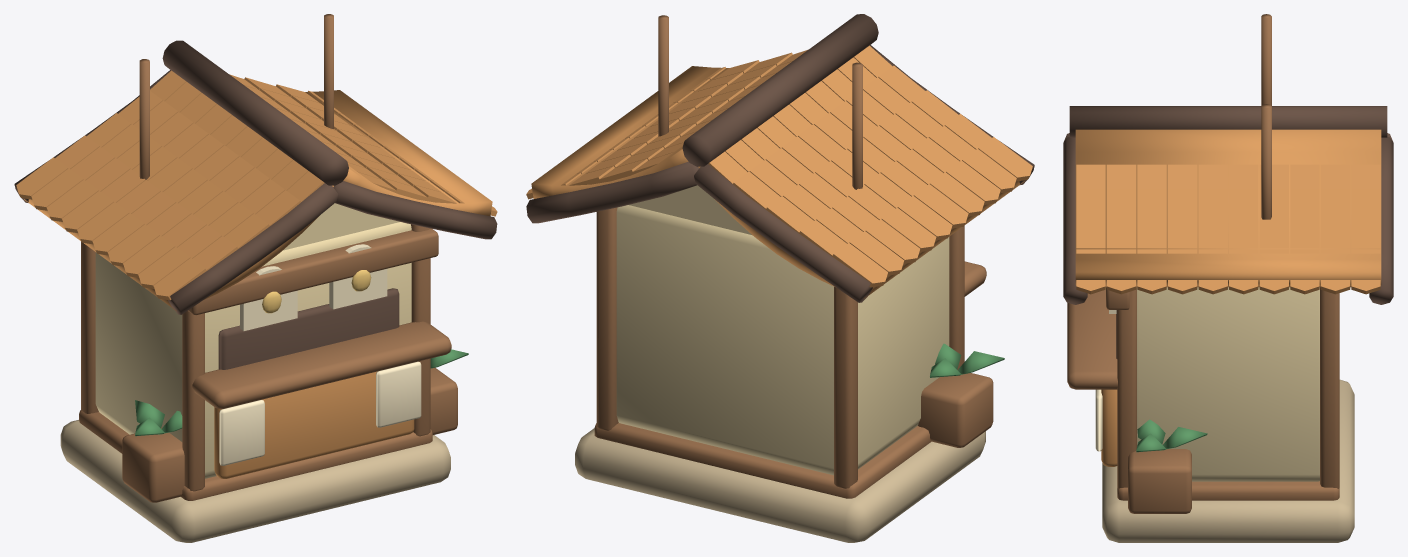
The model's file is booth_helper.glb.
3 renders of one model, left to right at view 1: azimuth 30°, elevation 25°; view 2: azimuth 150°, elevation 25°; view 3: azimuth 270°, elevation 25°, orthographic. The views are drawn at different scales.
Visible parts, largest first — view 1: booth_helper_crafted_mesh; view 2: booth_helper_crafted_mesh; view 3: booth_helper_crafted_mesh.
Part boxes in pixels (x1=…): booth_helper_crafted_mesh: x1=14, y1=14, x2=497, y2=542; booth_helper_crafted_mesh: x1=526, y1=14, x2=1034, y2=542; booth_helper_crafted_mesh: x1=1063, y1=14, x2=1393, y2=542.
Size of the model in its own units: 2.57 by 3.05 by 2.17.
